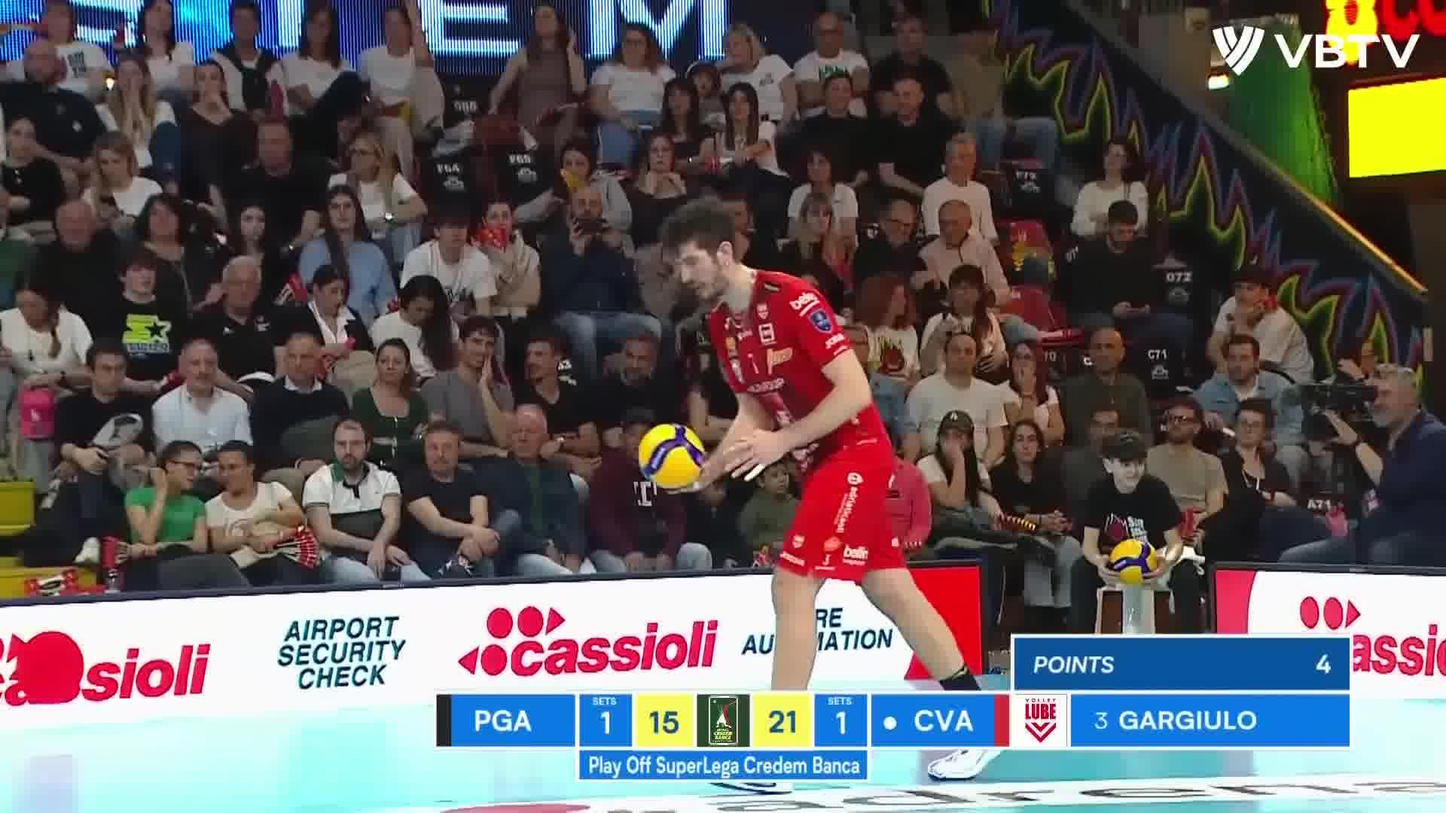balls: (631, 418, 713, 493), (1108, 534, 1164, 586)
